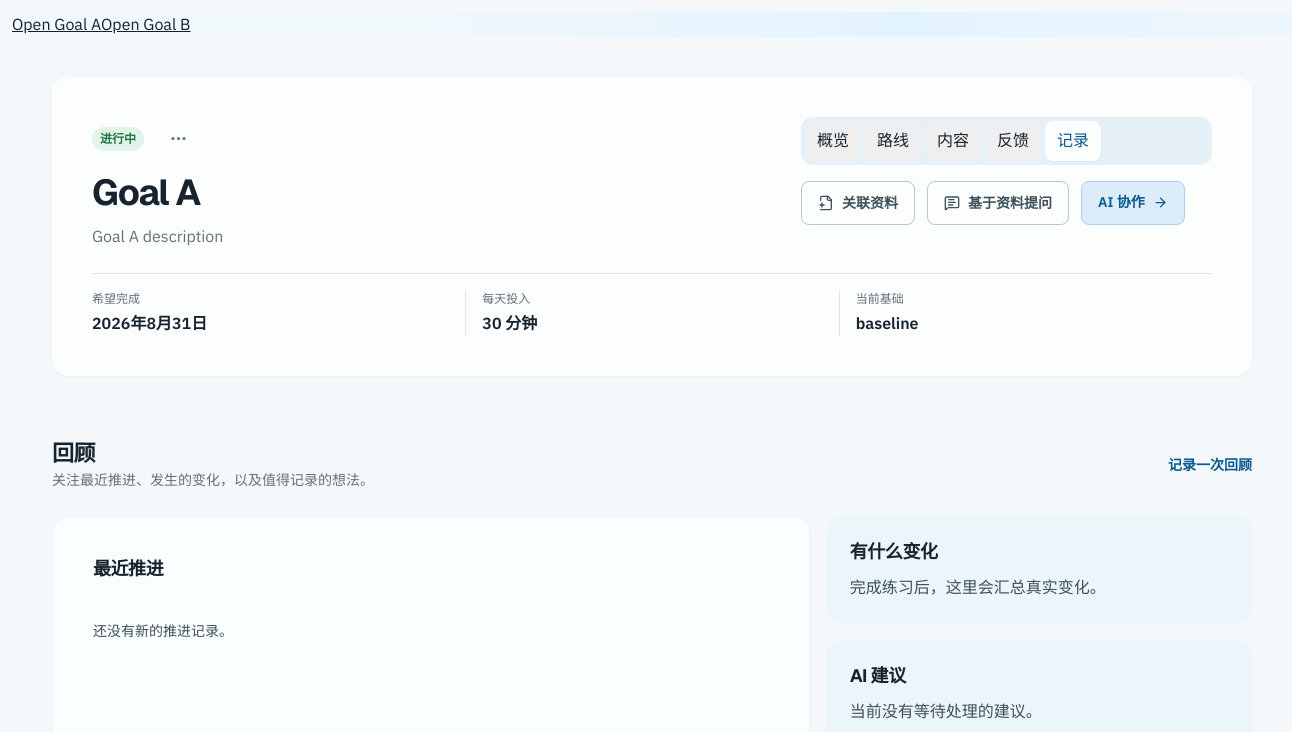
Test: Final Fix Batch 2B - Goal recent-session ownership › keeps ownership correct while switching from Goal A to Goal B
The width and height of the screenshot is (1292, 732).
Check: the heading "Goal A" is shown, box 92,173 -> 200,212
What coordinates should you click on to do the following:
click the link "Open Goal B"
I would click on:
 (146, 24)
Its box is 101,14 -> 190,34.
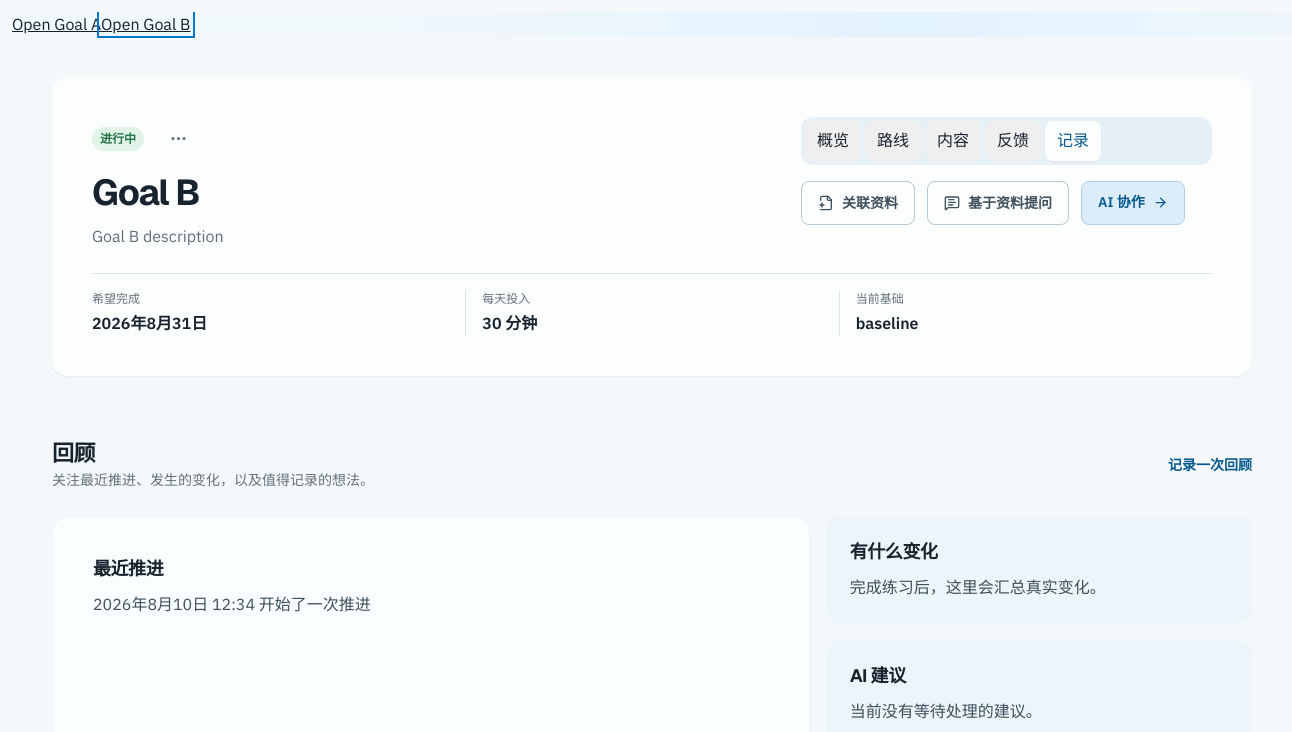
Check: the heading "Goal B" is shown, box 92,173 -> 199,212
